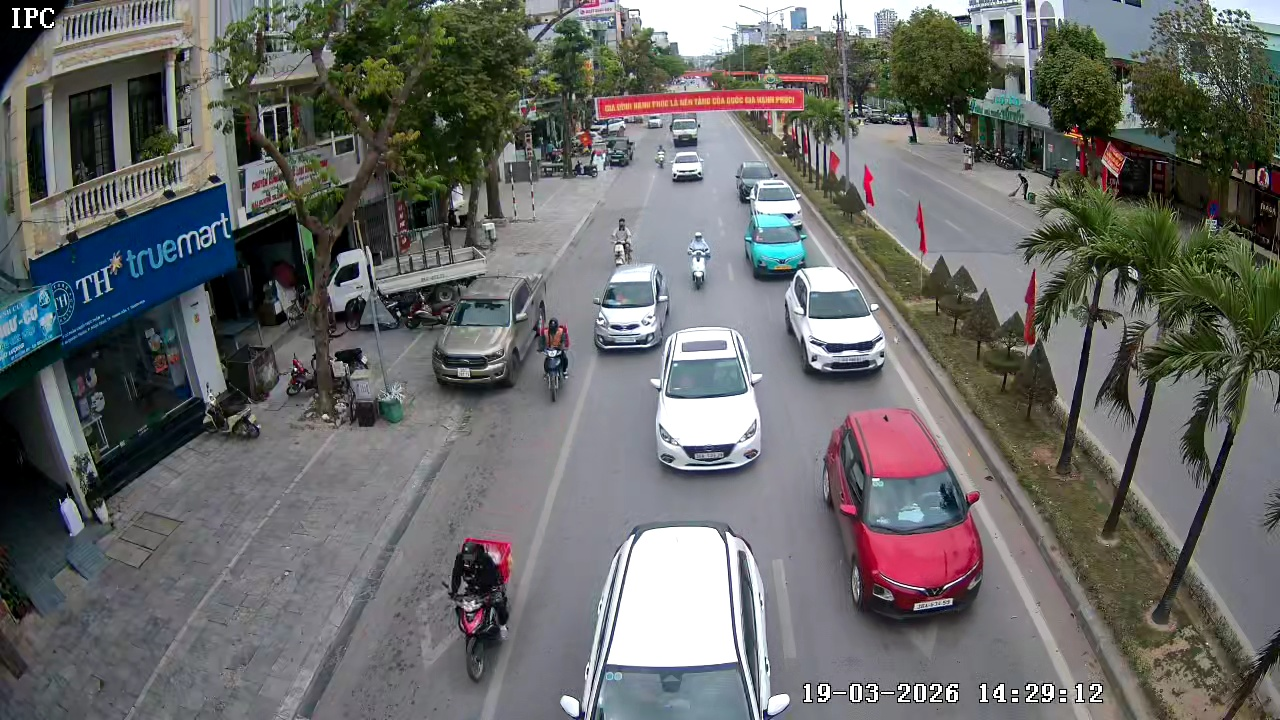car: (559, 521, 792, 719), (818, 407, 985, 618), (651, 326, 764, 473), (430, 274, 543, 388), (782, 267, 887, 375), (592, 264, 671, 351), (744, 210, 809, 279), (746, 178, 803, 232), (735, 160, 772, 204), (671, 150, 705, 184), (669, 112, 702, 145)
motorbike: (442, 535, 513, 681), (539, 317, 573, 403), (686, 230, 714, 290), (610, 215, 635, 266), (651, 143, 668, 167)
truck: (607, 133, 637, 173)
